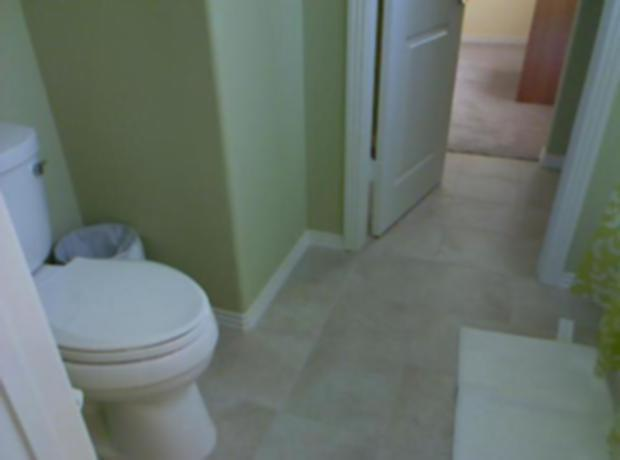Bote de Basura: (50, 215, 146, 371)
Sanitario: (2, 117, 228, 455)
